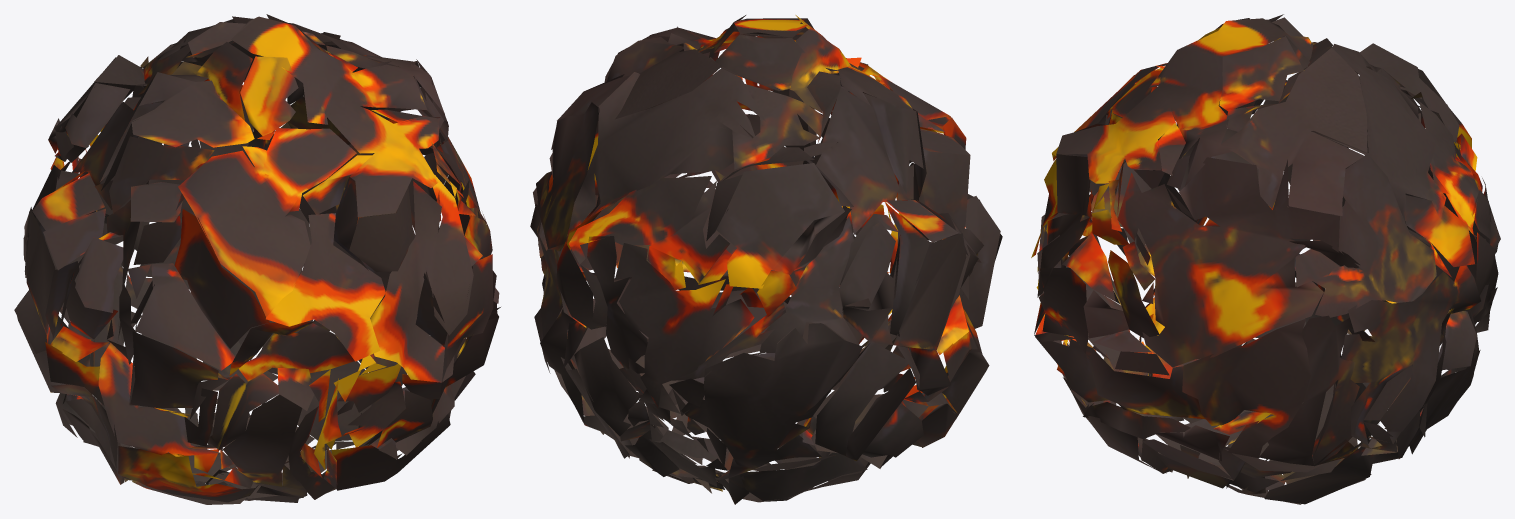
File: meteor.glb
3 renders of one model, left to right at view 1: azimuth 30°, elevation 25°; view 2: azimuth 150°, elevation 25°; view 3: azimuth 270°, elevation 25°, orthographic. The views are drawn at different scales.
Parts seen in each view (by area): view 1: Body; view 2: Body; view 3: Body.
Part boxes in pixels (<box>): Body: <box>14,14,500,504</box>; Body: <box>530,15,1002,504</box>; Body: <box>1031,14,1500,504</box>.
Size of the model in its own units: 1.4 by 1.47 by 1.38.
1 material, 1 textured.
